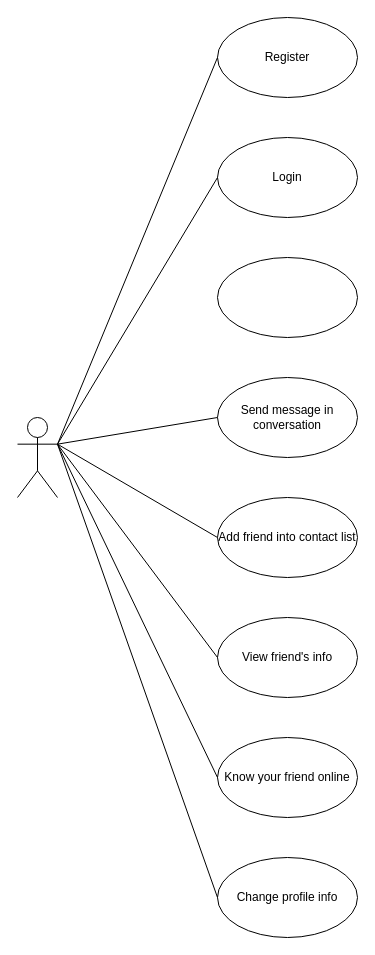
This 375x955 diagram has some shape labels left out. The centre of each missing label's shape, as x and y in pixels:
"Create Conversation" goes at pixel 287 297.
"User" goes at pixel 37 457.
